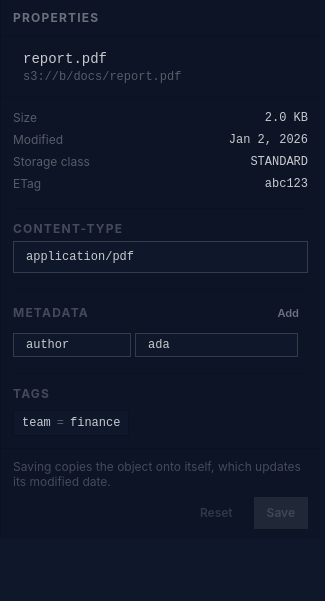
Test: ObjectPropertiesPanel › rejects the metadata key "two words"
The image size is (325, 601).
Expected: the field labelled "Content-Type" is shown, [13,241,308,273]
Click the button "Add".
click(288, 313)  # box [268,302,308,324]
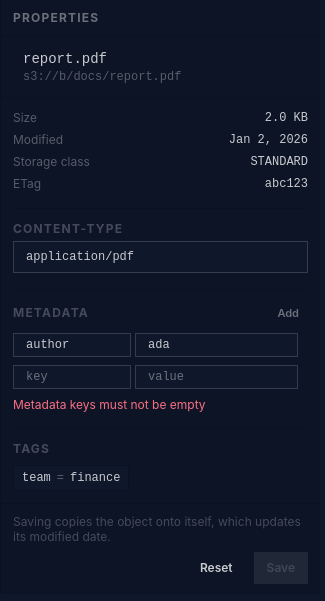
Type "two words" into the field named "Metadata key 2".
click(72, 376); type("two words")  # box [13,364,131,388]
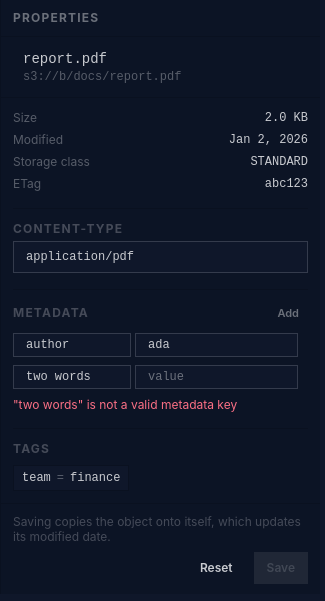
Expected: the button "Save" is disabled, [254,552,308,584]
Result: the text "\"two words\" is not a valid metadata key" is shown at [13,396,237,412]
